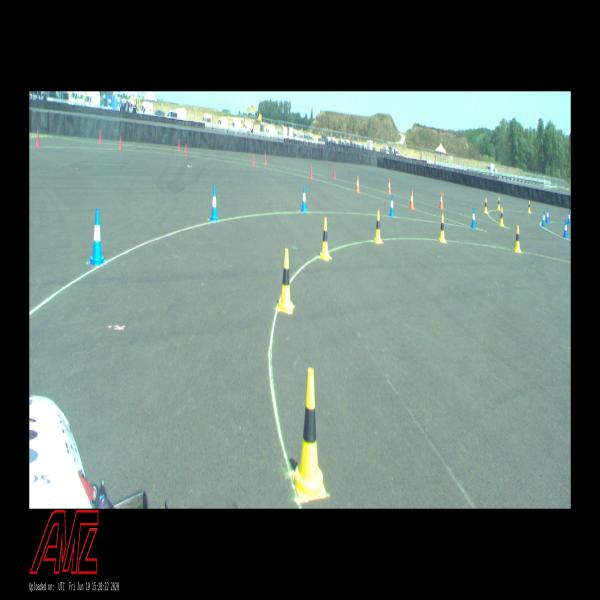blue_cone: (88, 208, 105, 265), (210, 186, 219, 221), (301, 186, 307, 212), (471, 207, 476, 229), (389, 195, 394, 216), (563, 219, 568, 239), (542, 211, 546, 227), (546, 208, 550, 223), (567, 211, 571, 224)
orange_cone: (409, 190, 414, 209), (439, 192, 444, 209), (356, 176, 360, 193), (388, 178, 391, 194)
unknown_cone: (36, 131, 40, 147), (252, 154, 255, 166), (310, 166, 312, 179), (99, 130, 101, 143), (185, 144, 187, 157), (334, 167, 336, 179), (120, 137, 122, 149), (264, 153, 266, 164), (178, 140, 180, 150)
yellow_cone: (292, 368, 326, 501), (278, 249, 294, 314), (319, 217, 331, 260), (374, 211, 382, 243), (438, 214, 446, 242), (514, 226, 521, 252), (500, 208, 504, 226), (497, 197, 501, 210), (527, 200, 531, 213), (484, 198, 487, 214)
